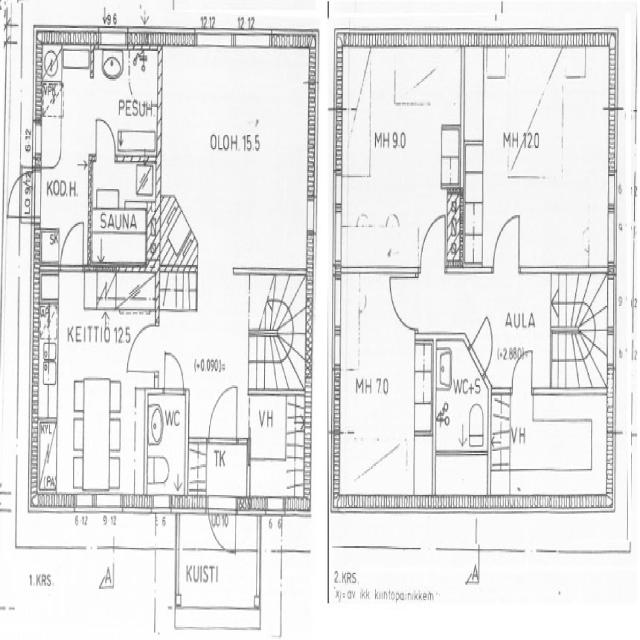door: (158, 36, 316, 270), (204, 377, 241, 448), (490, 207, 523, 274), (386, 268, 419, 334), (123, 316, 157, 380), (418, 208, 447, 274), (207, 496, 236, 554), (469, 314, 495, 373), (60, 218, 86, 271), (508, 345, 535, 396), (161, 345, 186, 398), (94, 114, 116, 159)
window: (608, 91, 627, 198), (329, 268, 344, 365), (194, 18, 238, 50), (239, 17, 273, 48), (98, 22, 131, 46)
zone: (158, 41, 315, 267), (467, 42, 618, 272), (335, 43, 462, 238), (331, 268, 429, 508), (34, 314, 151, 509), (489, 391, 613, 520), (36, 34, 154, 158), (247, 392, 310, 512), (90, 155, 156, 264), (33, 151, 93, 261), (434, 337, 486, 451), (146, 390, 187, 505), (8, 176, 24, 222)
